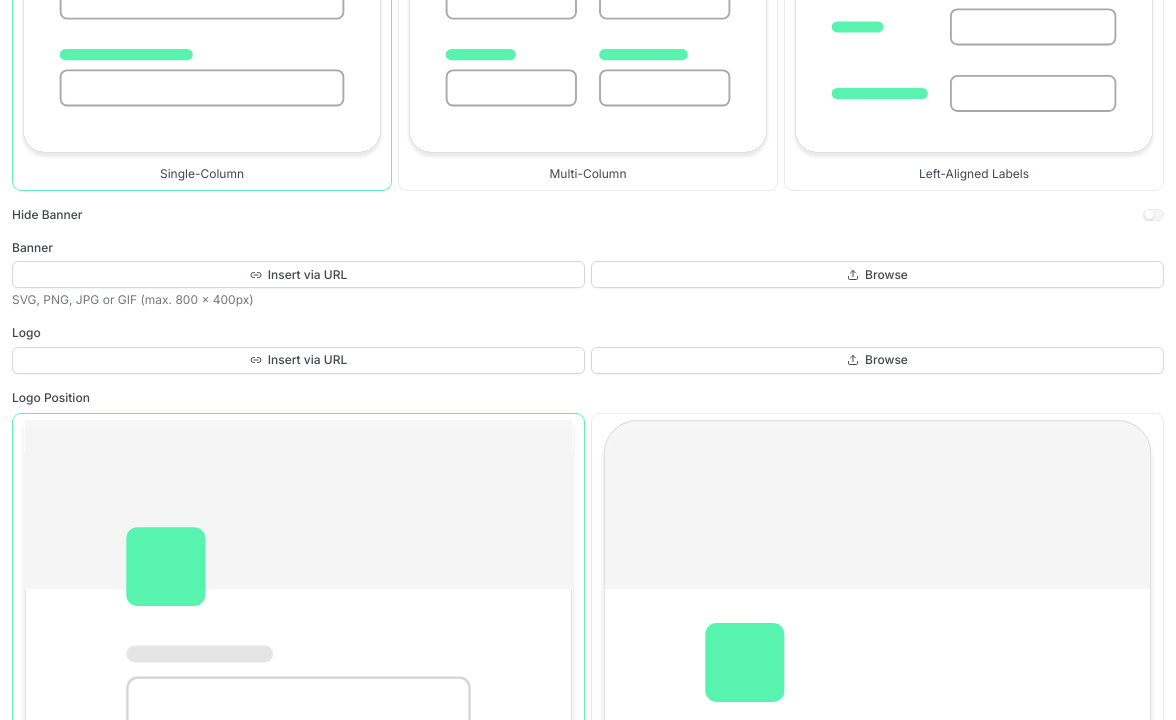
Test case: AppearanceSettings › URL handling and image replacement › rejects non-http URLs and clears the error for a valid one
This screenshot has width=1176, height=720.
(page scrolled)
Step 1. Click the 2nd button "Insert via URL" → click(298, 360), box [12,346,585,374]
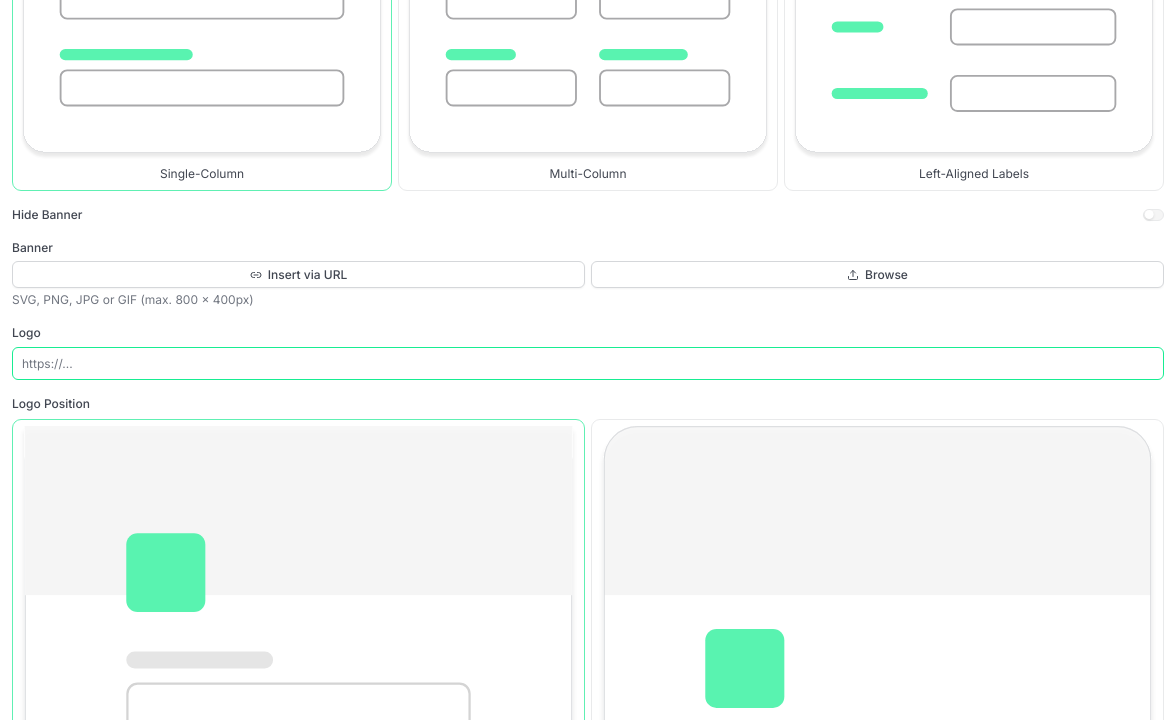
Step 2. Type "ftp://example.com/logo.png" into the field with placeholder "https://..." → (588, 363), box [12,346,1164,380]
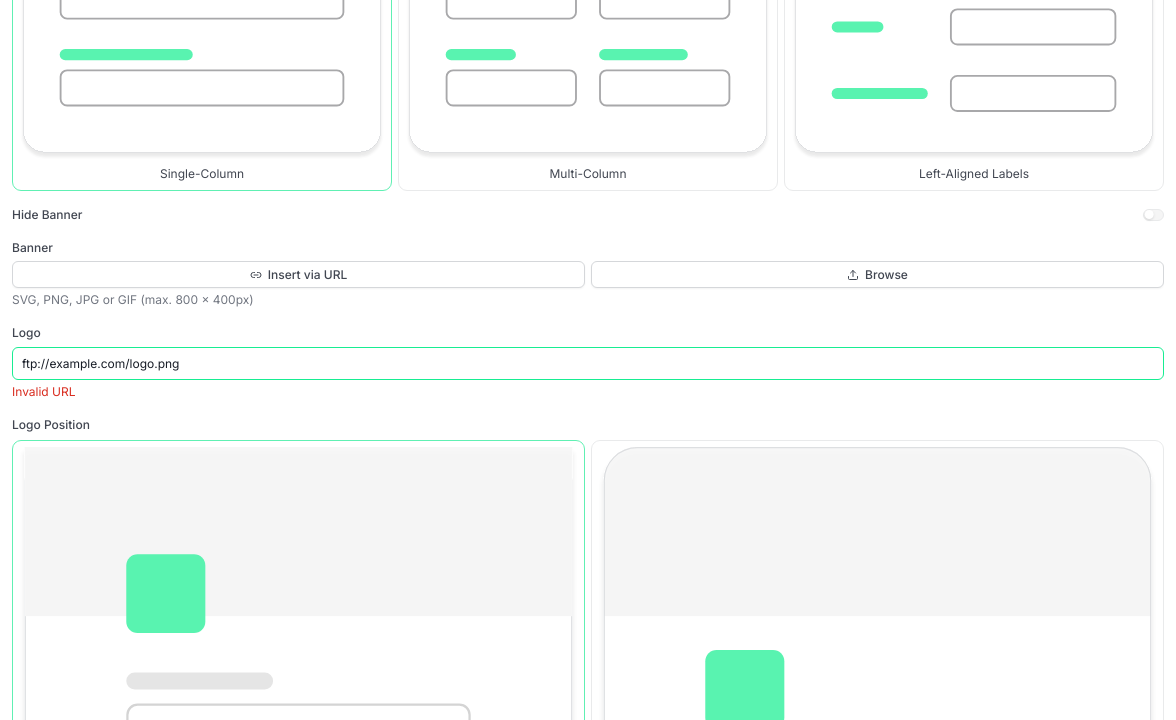
Expected: the text "Invalid URL" is shown, [12,384,76,398]
Step 3. Replace the text in the field with placeholder "https://..." with "https://example.com/logo.png" → (588, 363), box [12,346,1164,380]
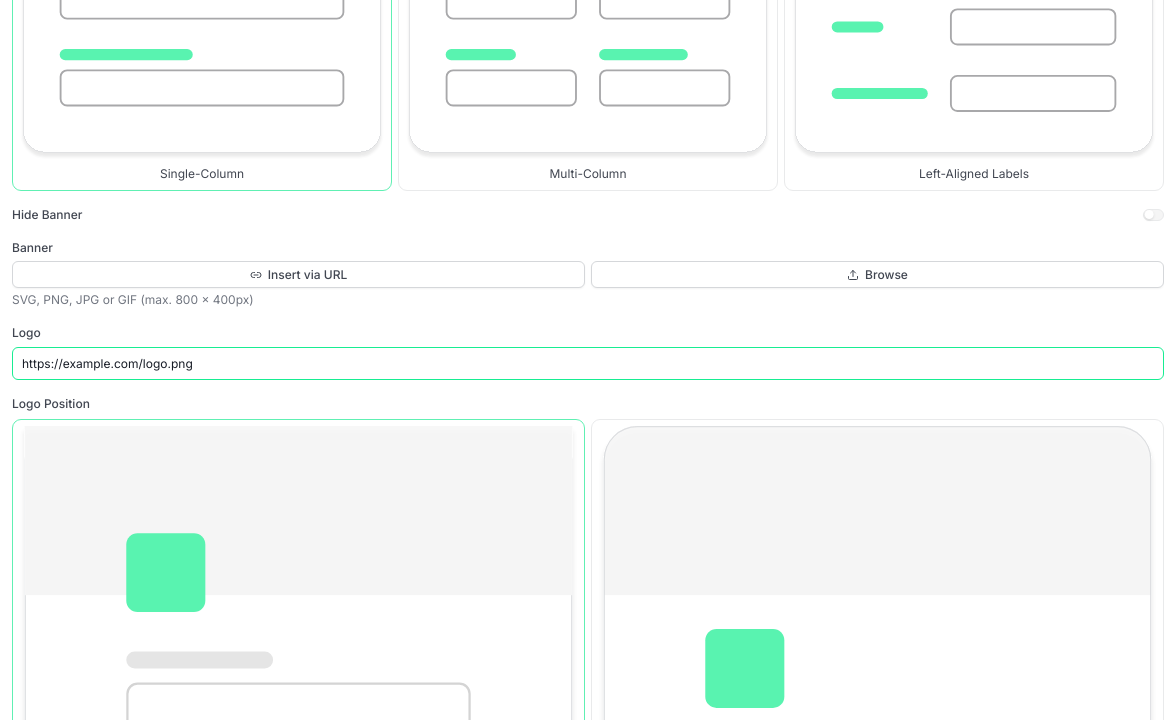
Expected: the text "Invalid URL" is gone
